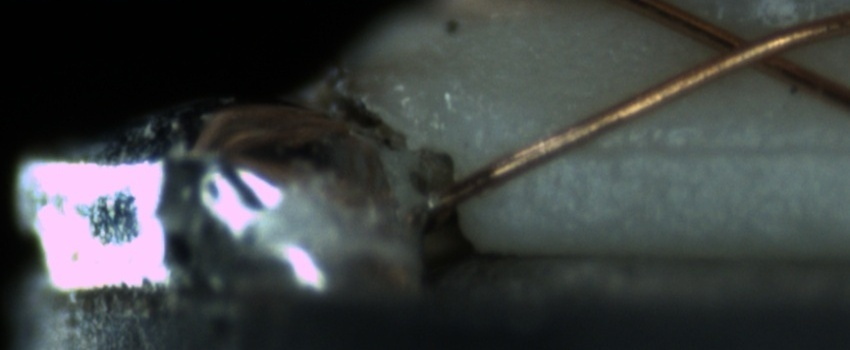CL: (691, 19, 816, 80)
DL: (547, 115, 846, 182)
